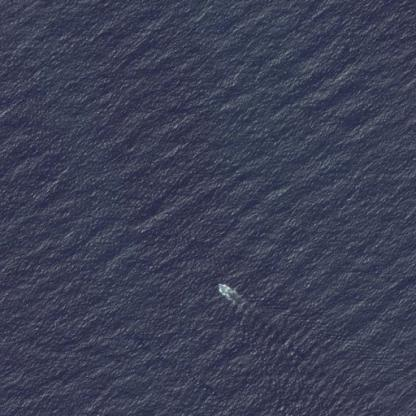ship: (210, 276, 235, 301)
